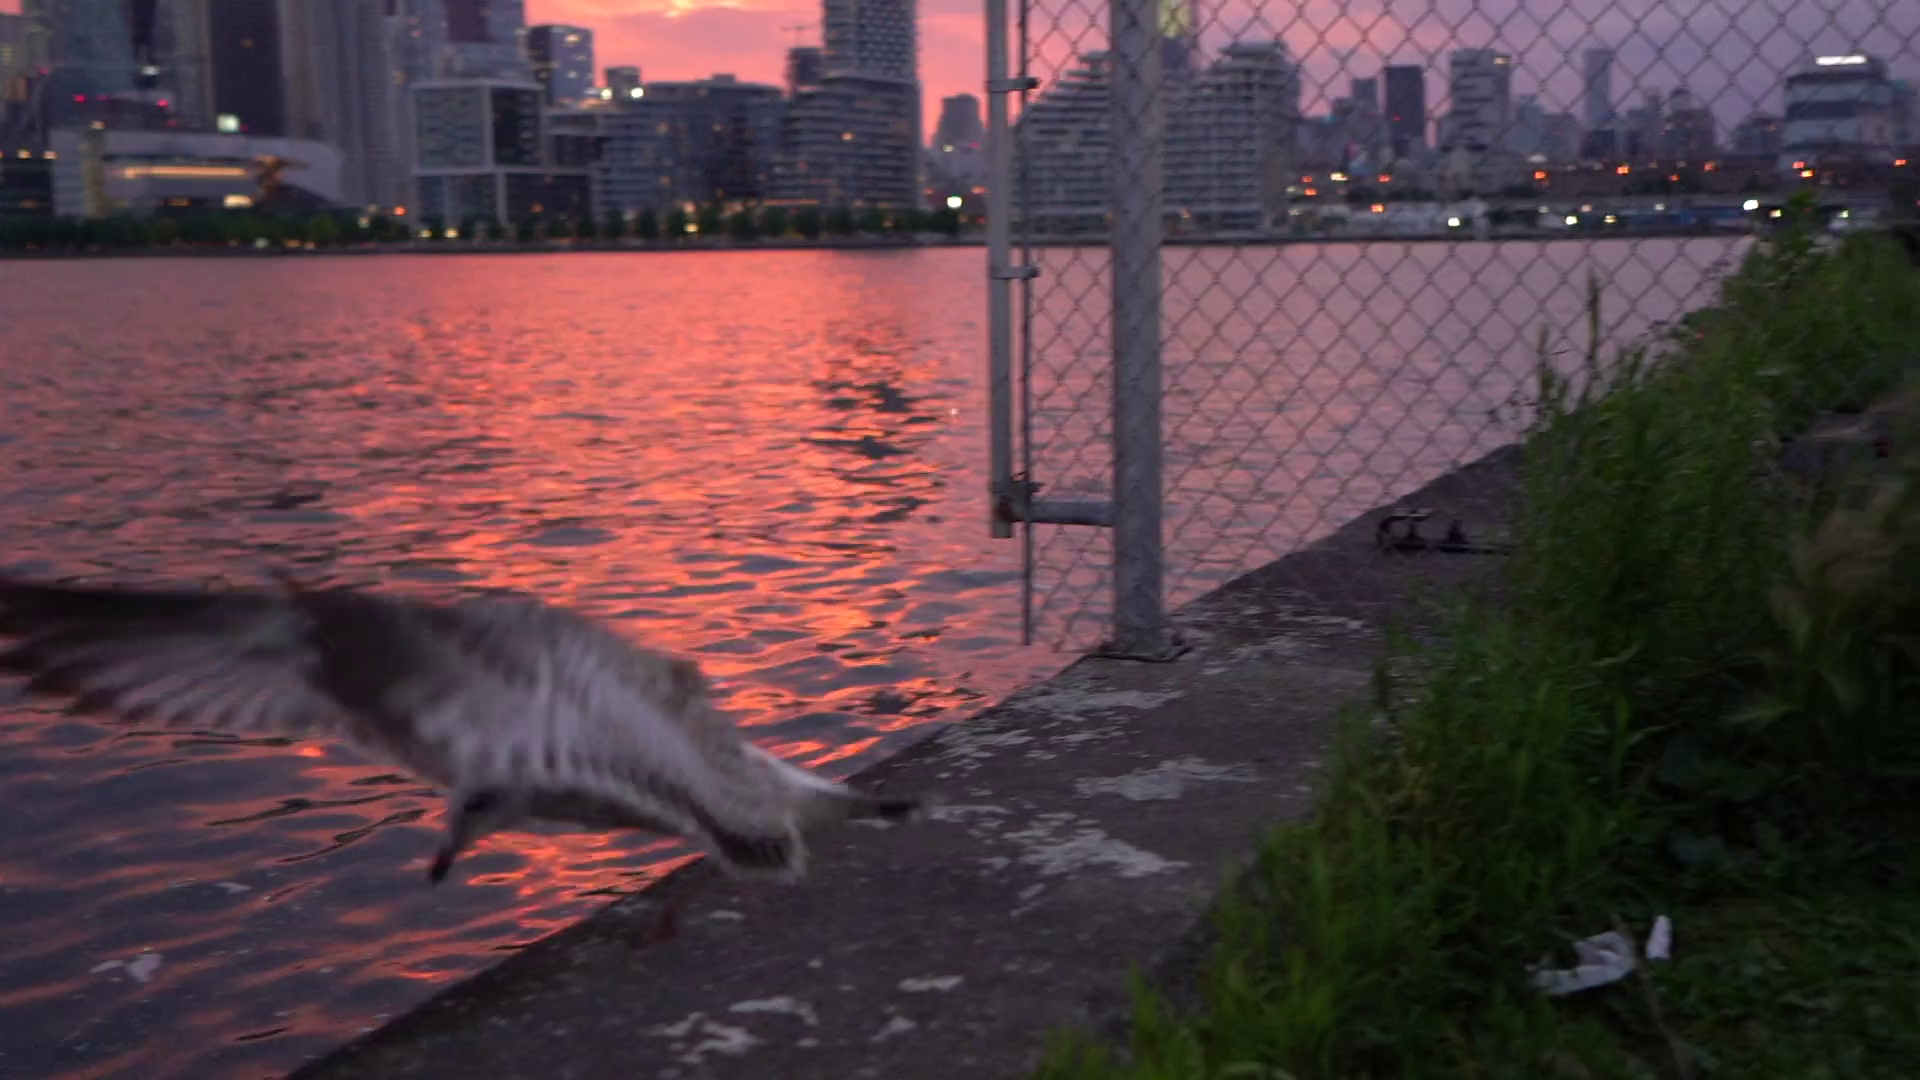bird: (1, 575, 918, 884)
